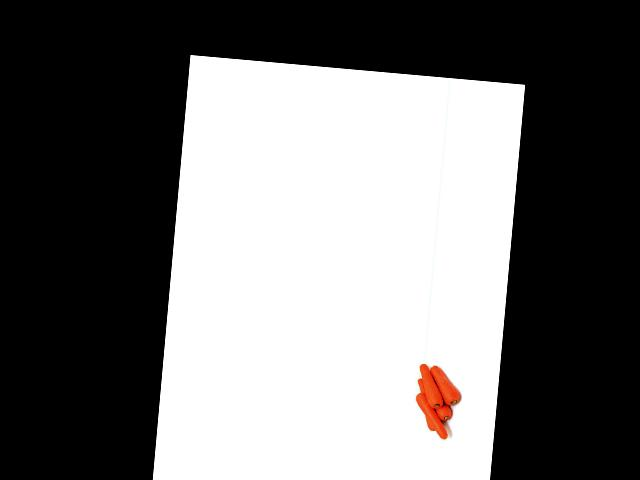carrot: (426, 363, 468, 412)
